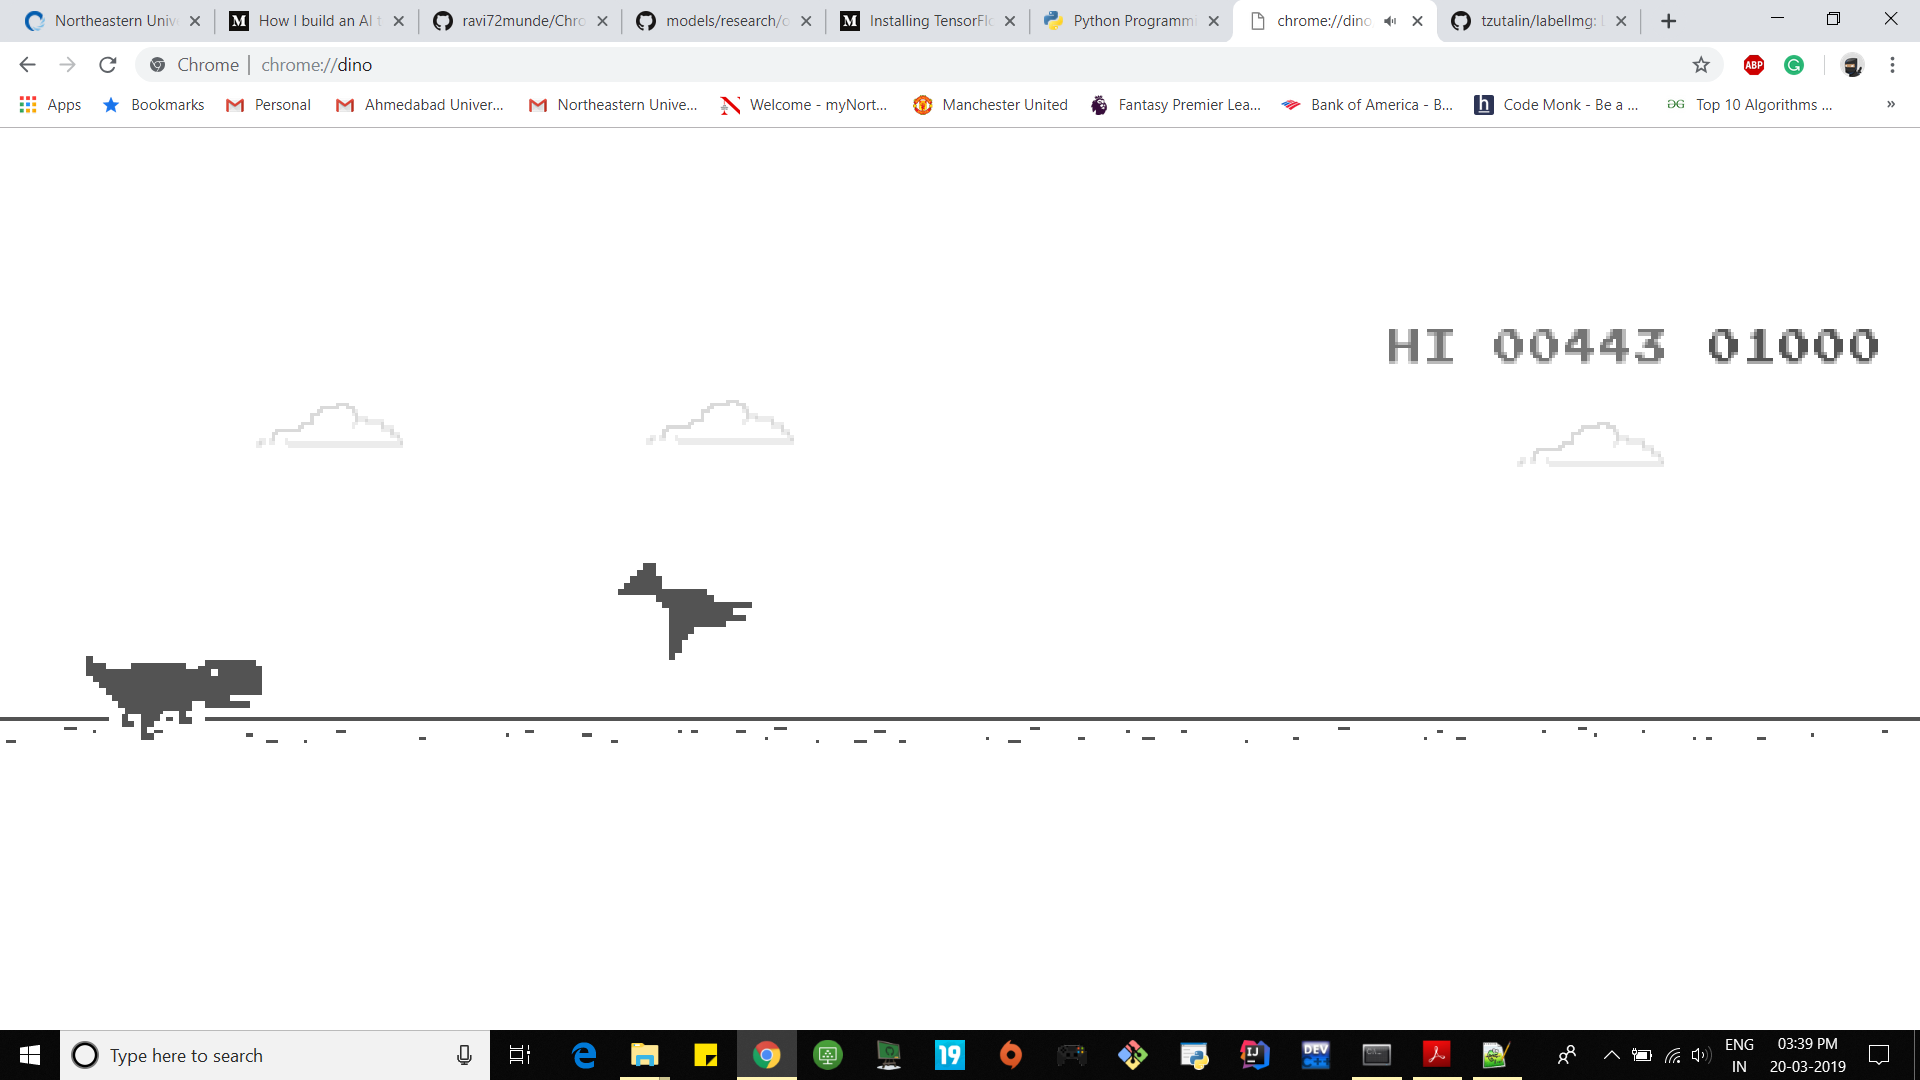bird: (616, 560, 754, 661)
dino: (83, 657, 262, 740)
